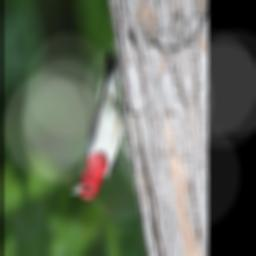Woodpecker: (48, 44, 140, 210)
